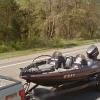Boat: (19, 37, 99, 92)
